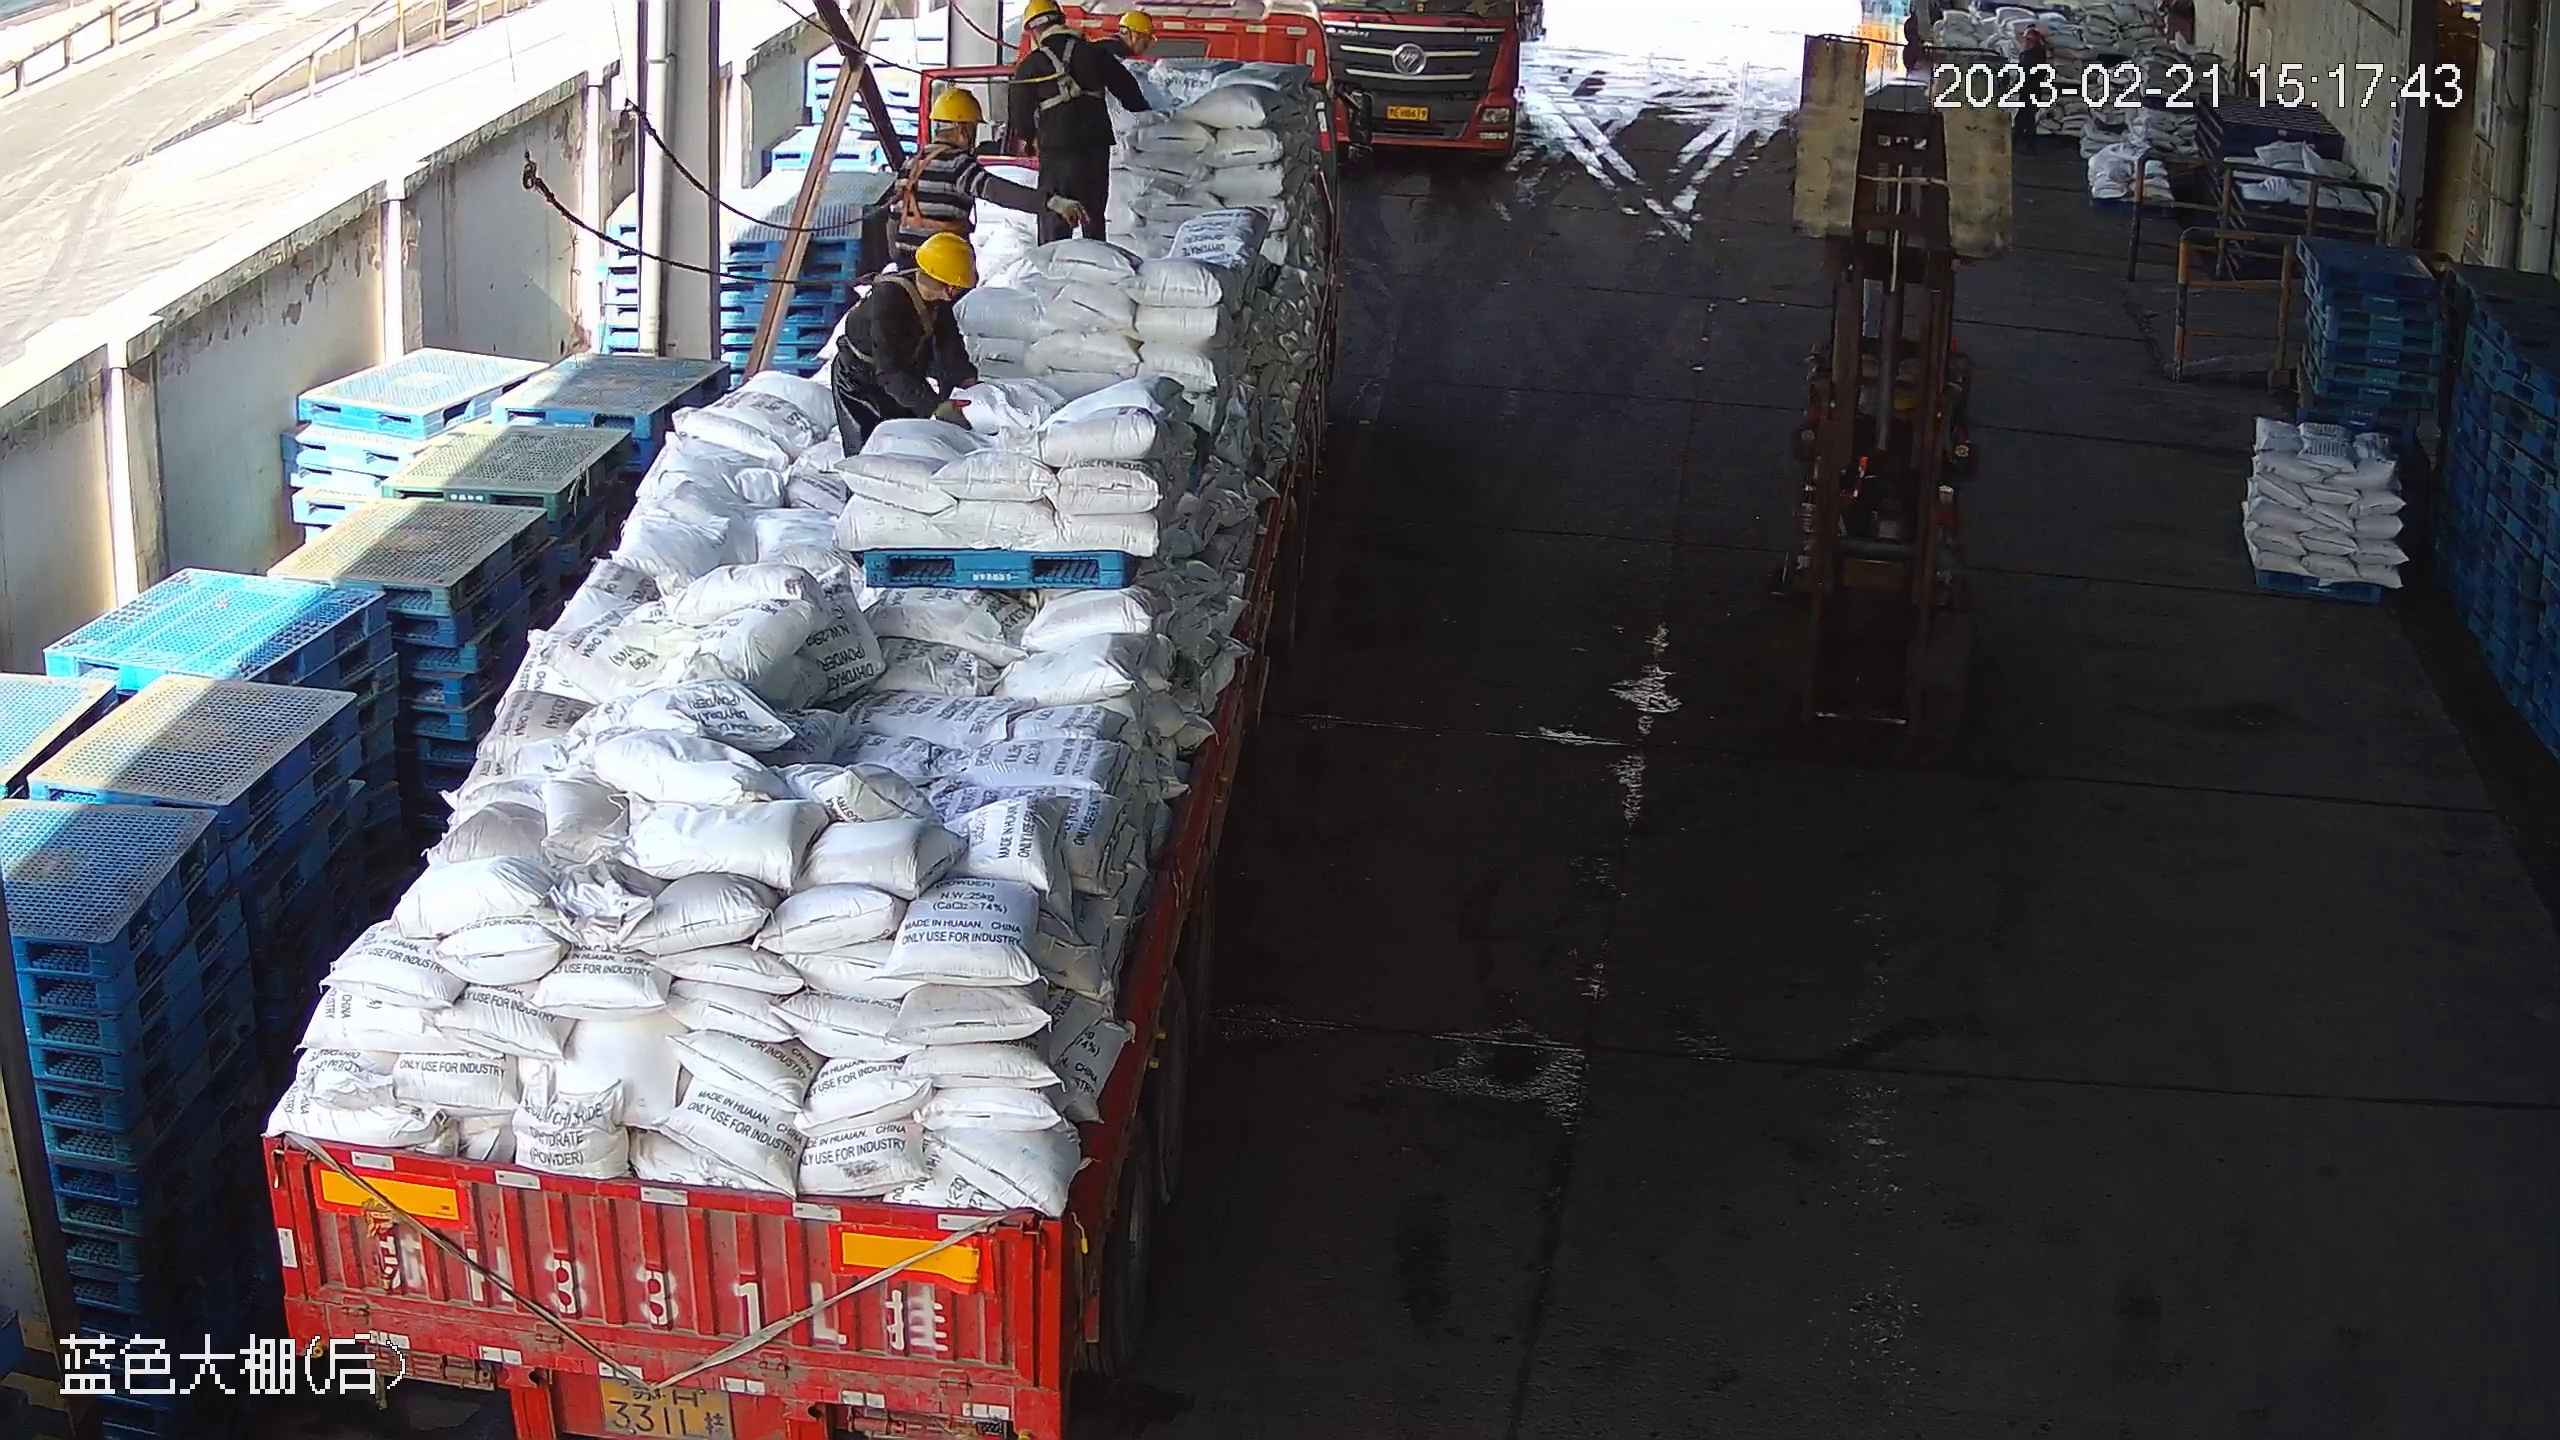belt: (827, 269, 946, 370), (866, 136, 983, 234), (1016, 39, 1107, 110)
head: (867, 230, 982, 333), (1003, 1, 1116, 79), (908, 85, 990, 183)
helmet: (911, 230, 981, 291), (926, 87, 988, 125), (1021, 1, 1071, 34), (1115, 8, 1157, 38)
people: (884, 87, 1096, 274), (830, 230, 981, 464), (1008, 1, 1151, 247)
truck: (246, 9, 1348, 1439)
